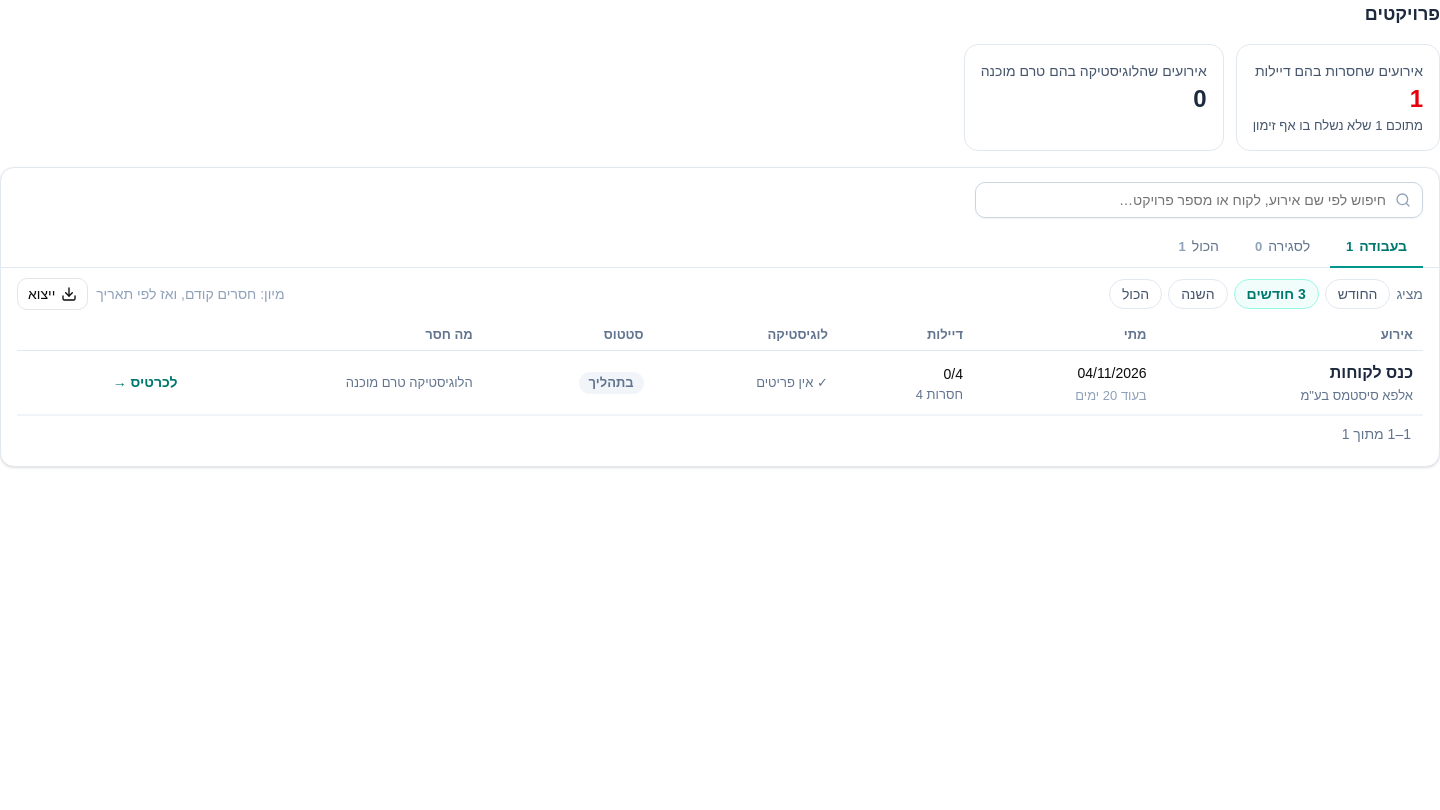
🔴 ברירת-מחדל = מה שבמסך, ואפשר להוסיף עוד › װ"מה חסר" זמינה אך אינה בברירת-המחדל — החריג שישי אישר
What coordinates should you click on to do the following:
click the button with test id "projects-export-button"
I would click on:
 (53, 294)
Its box is [17,278,88,310].
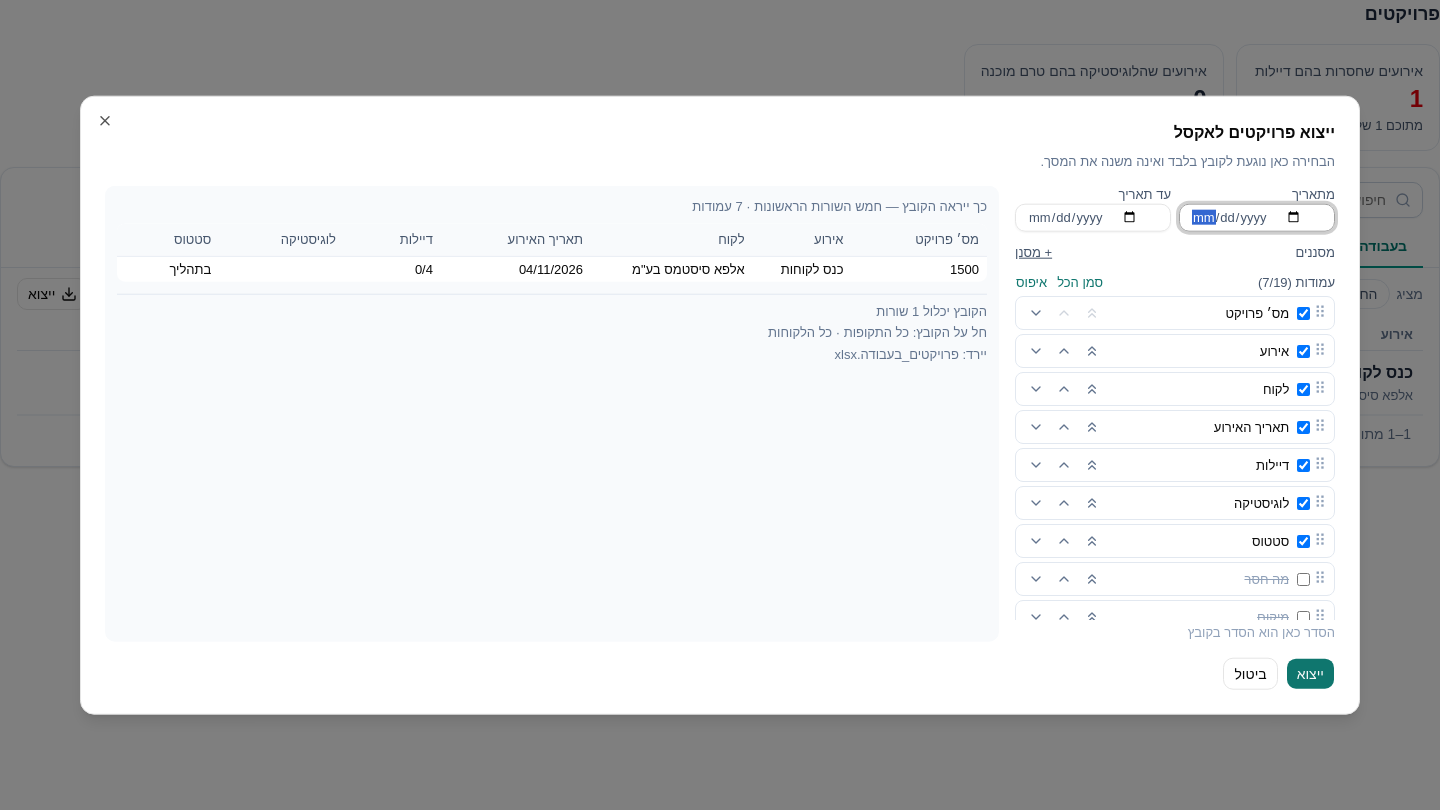
Expected: the column heading does not show "מה חסר"
Expected: the list with test id "export-column-list" is shown, [1015,296,1335,620]
Expected: the list item with test id "export-column-gap" is shown, [1015,562,1335,596]
